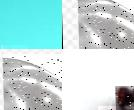ironball: (2, 54, 62, 109), (77, 0, 133, 49), (114, 86, 133, 109), (97, 106, 120, 109)
